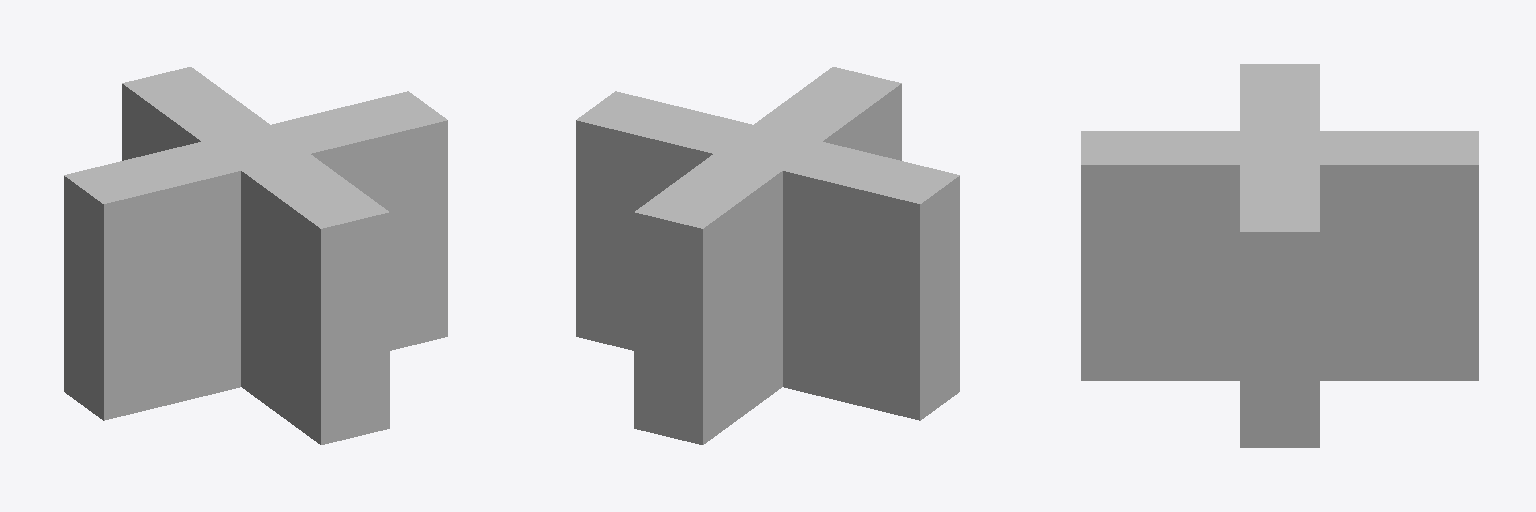
The model's file is plus1.obj.
3 views of the same model, side by side, from view 1: azimuth 30°, elevation 25°; view 2: azimuth 150°, elevation 25°; view 3: azimuth 270°, elevation 25° (orthographic).
Parts seen in each view (by area): view 1: Cube_Cube.001; view 2: Cube_Cube.001; view 3: Cube_Cube.001.
Boxes of the visible parts, x1=… form: Cube_Cube.001: x1=64, y1=67, x2=447, y2=444; Cube_Cube.001: x1=576, y1=67, x2=959, y2=444; Cube_Cube.001: x1=1081, y1=64, x2=1478, y2=447.
Size of the model in its own units: 10 by 6 by 10.